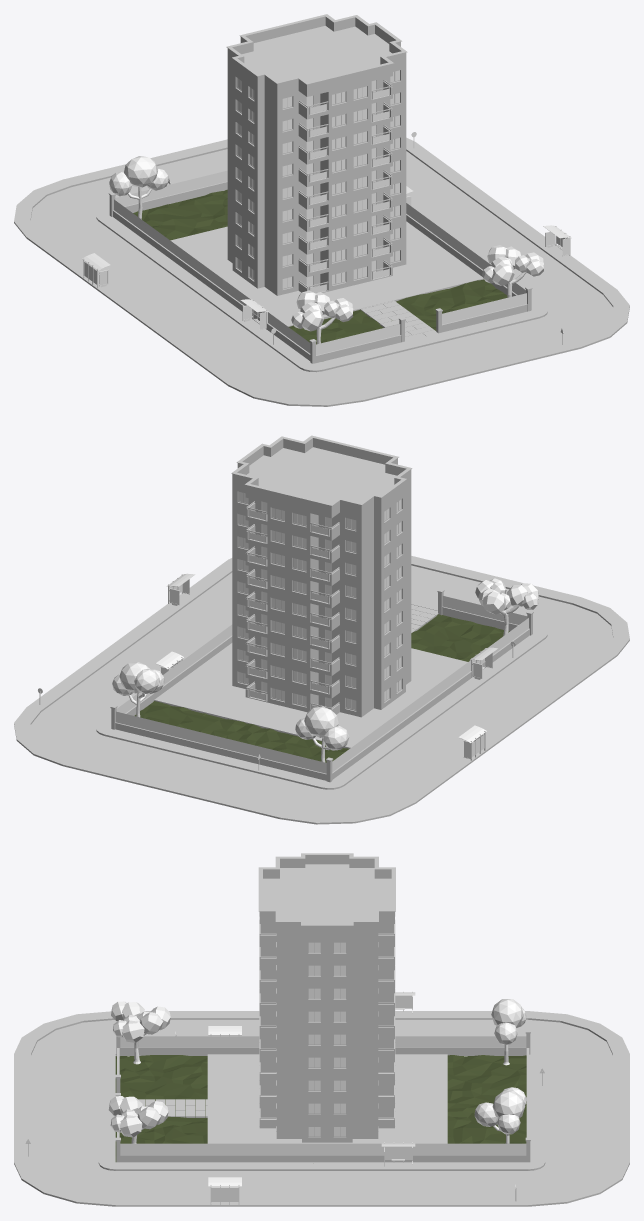
3 views of the same model, one above another, from view 1: azimuth 30°, elevation 25°; view 2: azimuth 150°, elevation 25°; view 3: azimuth 270°, elevation 25° (orthographic). The views are drawn at different scales.
Parts seen in each view (by area): view 1: Plane012_4, Plane012_10, Plane012, Plane012_9, Plane012_1, Plane012_3, Plane012_5, Plane012_2, Plane012_6; view 2: Plane012_4, Plane012_10, Plane012, Plane012_9, Plane012_1, Plane012_3, Plane012_2, Plane012_5, Plane012_6, Plane012_7; view 3: Plane012_4, Plane012_10, Plane012, Plane012_1, Plane012_3, Plane012_5, Plane012_2, Plane012_9, Plane012_6, Plane012_7.
Boxes of the visible parts, x1=… form: Plane012_4: x1=14, y1=137, x2=629, y2=406; Plane012_10: x1=226, y1=14, x2=407, y2=295; Plane012: x1=170, y1=221, x2=483, y2=341; Plane012_9: x1=237, y1=70, x2=399, y2=292; Plane012_1: x1=133, y1=189, x2=507, y2=344; Plane012_3: x1=114, y1=170, x2=526, y2=355; Plane012_5: x1=109, y1=156, x2=543, y2=344; Plane012_2: x1=108, y1=181, x2=532, y2=363; Plane012_6: x1=82, y1=186, x2=571, y2=329; Plane012_4: x1=14, y1=556, x2=629, y2=824; Plane012_10: x1=231, y1=435, x2=412, y2=717; Plane012: x1=154, y1=604, x2=467, y2=748; Plane012_9: x1=238, y1=492, x2=401, y2=709; Plane012_1: x1=134, y1=614, x2=509, y2=762; Plane012_3: x1=116, y1=596, x2=528, y2=773; Plane012_2: x1=110, y1=589, x2=533, y2=782; Plane012_5: x1=112, y1=578, x2=538, y2=762; Plane012_6: x1=155, y1=573, x2=497, y2=760; Plane012_7: x1=161, y1=579, x2=492, y2=758; Plane012_4: x1=14, y1=1011, x2=629, y2=1206; Plane012_10: x1=258, y1=853, x2=395, y2=1142; Plane012: x1=138, y1=1054, x2=447, y2=1143; Plane012_1: x1=115, y1=1055, x2=526, y2=1161; Plane012_3: x1=120, y1=1036, x2=526, y2=1154; Plane012_5: x1=108, y1=999, x2=526, y2=1143; Plane012_2: x1=115, y1=1030, x2=530, y2=1162; Plane012_9: x1=308, y1=942, x2=345, y2=1136; Plane012_6: x1=208, y1=991, x2=415, y2=1204; Plane012_7: x1=211, y1=995, x2=412, y2=1201.
Bounding box in the file's own units: 54.24 × 28.66 × 72.71.
